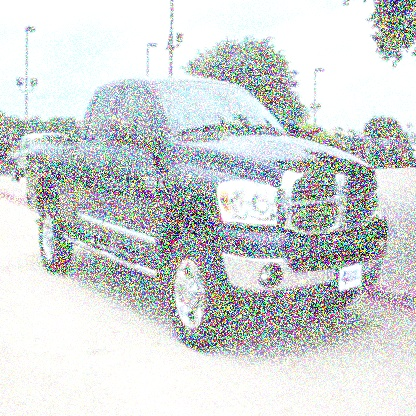Vehicle: (25, 76, 389, 352)
